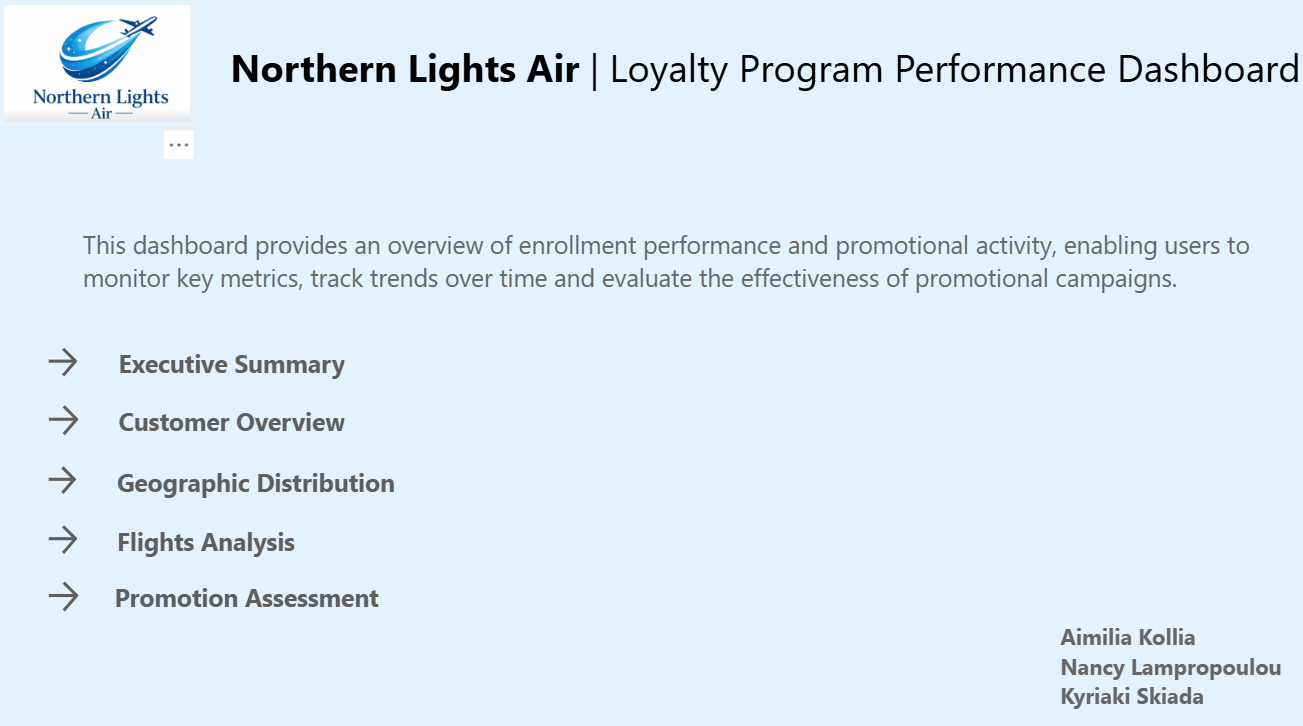

The page's visual inventory and layout, read from the dashboard file:
{"tool":"powerbi","page":{"name":"HomePage","canvas":[1280,720],"ordinal":0},"visuals":[{"type":"textbox","box":[221.3,41.3,1059,66.3],"z":0},{"type":"actionButton","title":"Executive Summary","box":[42.8,341.2,299.6,37.9],"z":1000},{"type":"actionButton","box":[42.8,457.3,348.5,36.7],"z":2000},{"type":"textbox","box":[77.5,223.8,1171.5,102.5],"z":3000},{"type":"actionButton","box":[42.8,569.8,332.6,39.1],"z":4000},{"type":"actionButton","box":[42.8,514.8,250.7,37.9],"z":5000},{"type":"image","box":[0,3.8,192.5,128.8],"z":6000},{"type":"textbox","box":[1033.3,609,247,111.3],"z":7000},{"type":"actionButton","box":[42.8,397.4,299.6,39.1],"z":7001}]}

Visuals, with their boxes in screenshot pixels (x1, y1, x2, y2), scaled from the page's 1280x720 canvas onto the 1303x726 screenshot:
textbox: <box>225,42,1302,108</box>
"Executive Summary" actionButton: <box>44,344,349,382</box>
actionButton: <box>44,461,398,498</box>
textbox: <box>79,226,1271,329</box>
actionButton: <box>44,575,382,614</box>
actionButton: <box>44,519,299,557</box>
image: <box>0,4,196,134</box>
textbox: <box>1052,614,1302,725</box>
actionButton: <box>44,401,349,440</box>
